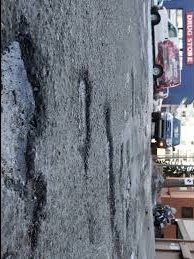pothole: (1, 36, 44, 249), (68, 71, 97, 168), (104, 102, 114, 235), (124, 67, 137, 121), (115, 140, 126, 181)
